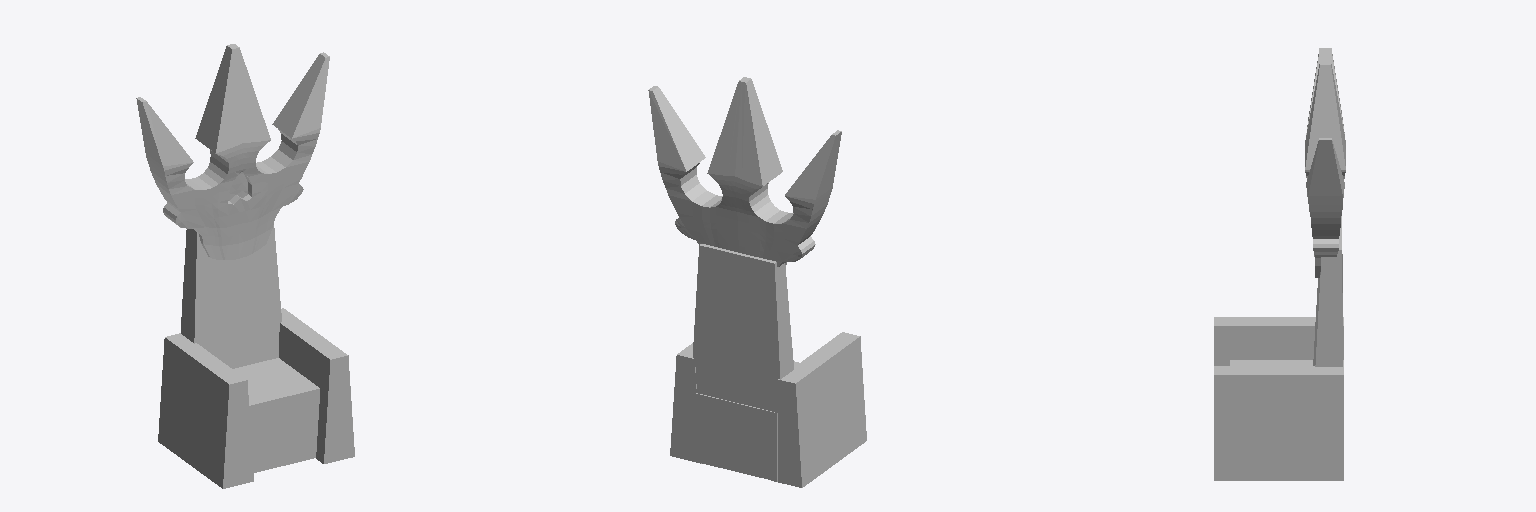
File: collinDmThrone.obj
3 renders of one model, left to right at view 1: azimuth 30°, elevation 25°; view 2: azimuth 150°, elevation 25°; view 3: azimuth 270°, elevation 25°, orthographic.
Visible parts, largest first — view 1: throne, skull; view 2: throne, skull; view 3: throne, skull.
Part boxes in pixels (x1,y1,x2,y2): throne: (158, 225, 354, 488); skull: (136, 44, 329, 259); throne: (670, 244, 866, 487); skull: (648, 77, 841, 266); throne: (1214, 216, 1343, 480); skull: (1305, 48, 1345, 277).
Size of the model in its own units: 5.86 by 11.53 by 3.57.